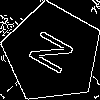N: (27, 28, 83, 82)
